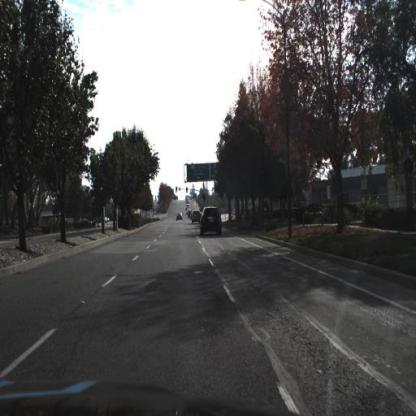car: (199, 206, 222, 238), (191, 207, 201, 230), (190, 210, 199, 224), (176, 211, 182, 222)
trafficLight-Green: (174, 185, 178, 194), (186, 186, 188, 194)
